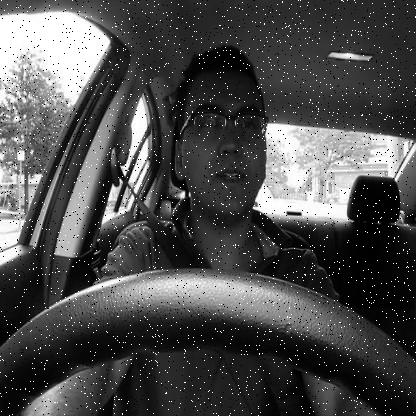seatbelt: (106, 45, 278, 416)
